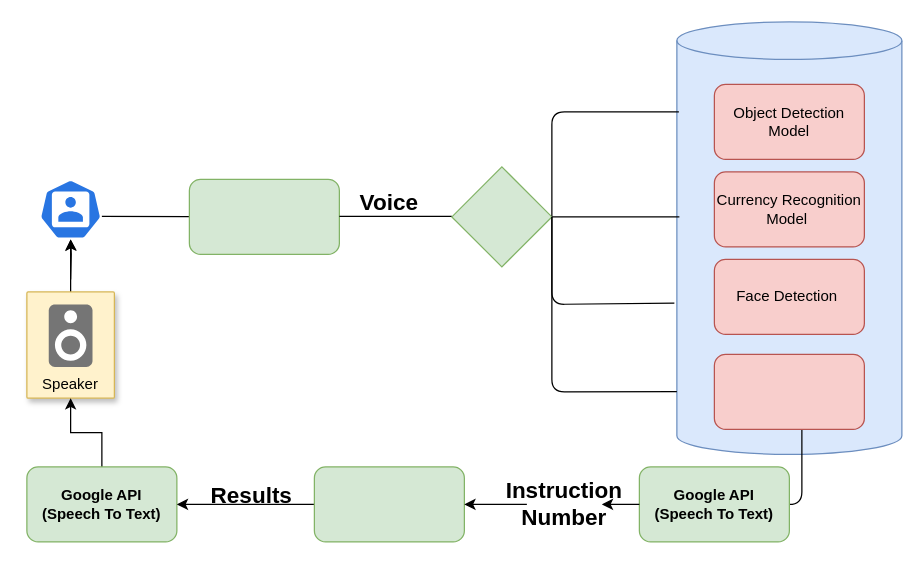
Image size: 924x564. Some labels were removed from this diagram. The shapes that lost their labels are listed below. From the top down, each one's centre as x and y in pixels, then its label:
At point (263, 216): "Google API (Text To Speech)".
At point (788, 391): "OCR".
At point (388, 504): "Implement the task".
